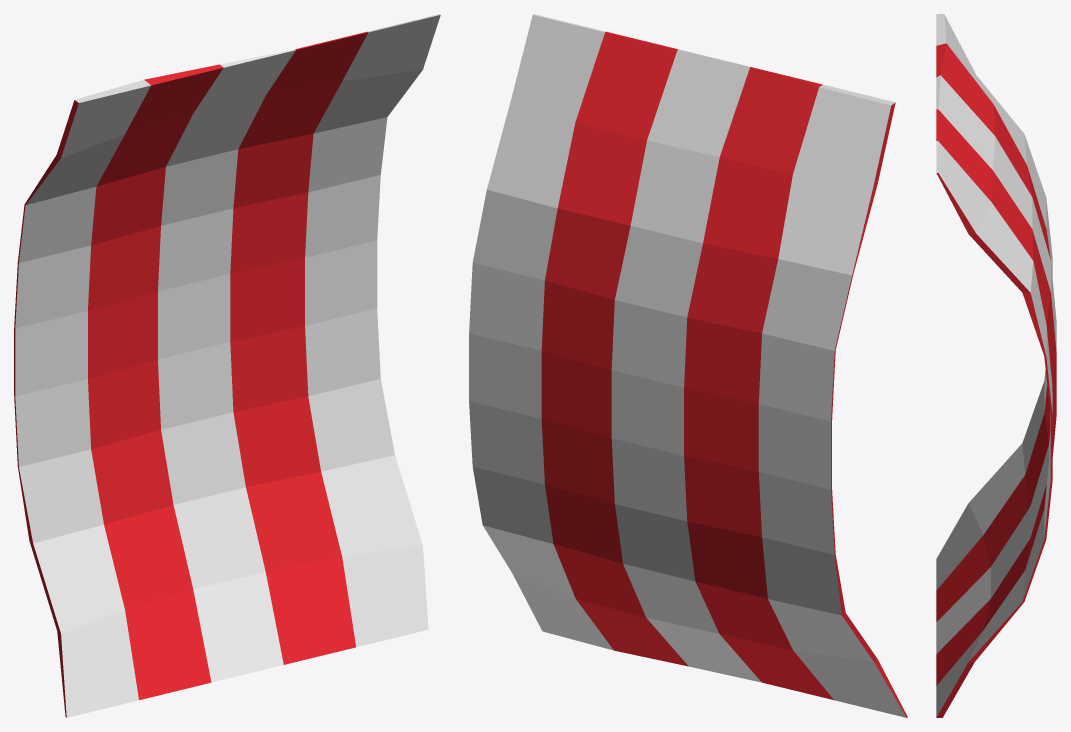
File: face_236_canvas.fbx
The picture shows the model from 3 angles, left to right: view 1: azimuth 30°, elevation 25°; view 2: azimuth 150°, elevation 25°; view 3: azimuth 270°, elevation 25°; orthographic projection. The views are drawn at different scales.
Visible parts, largest first — view 1: ship.003; view 2: ship.003; view 3: ship.003.
Boxes of the visible parts, x1,y1,x2,y2 form: ship.003: [14, 14, 440, 717]; ship.003: [469, 14, 907, 717]; ship.003: [936, 14, 1056, 717].
Size of the model in its own units: 1096 by 1712 by 338.
